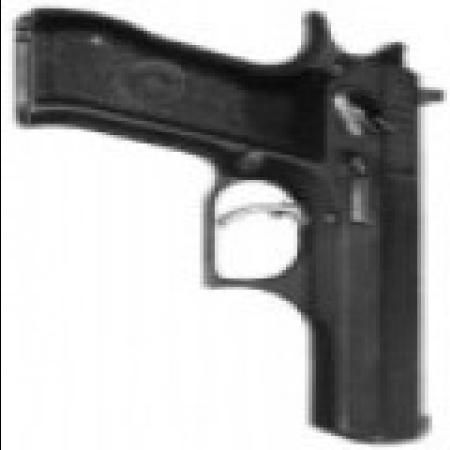Pistol: (23, 9, 438, 441)
